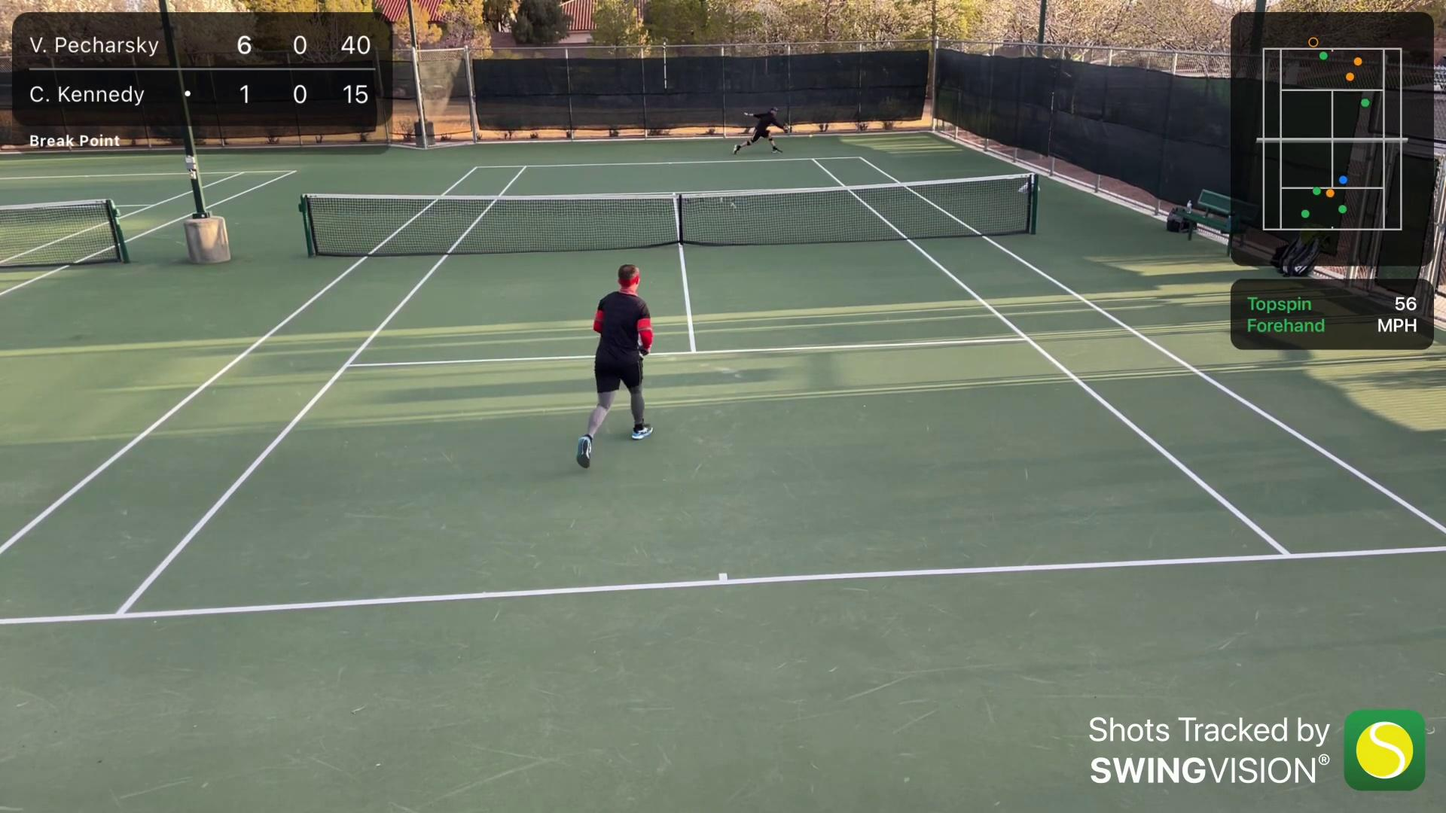ball: (808, 133, 814, 139)
